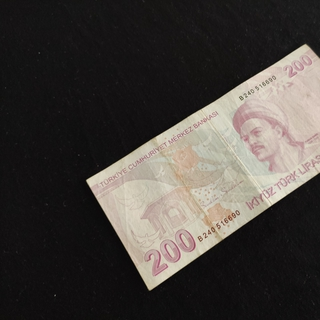200TLBack: (85, 43, 320, 291)
